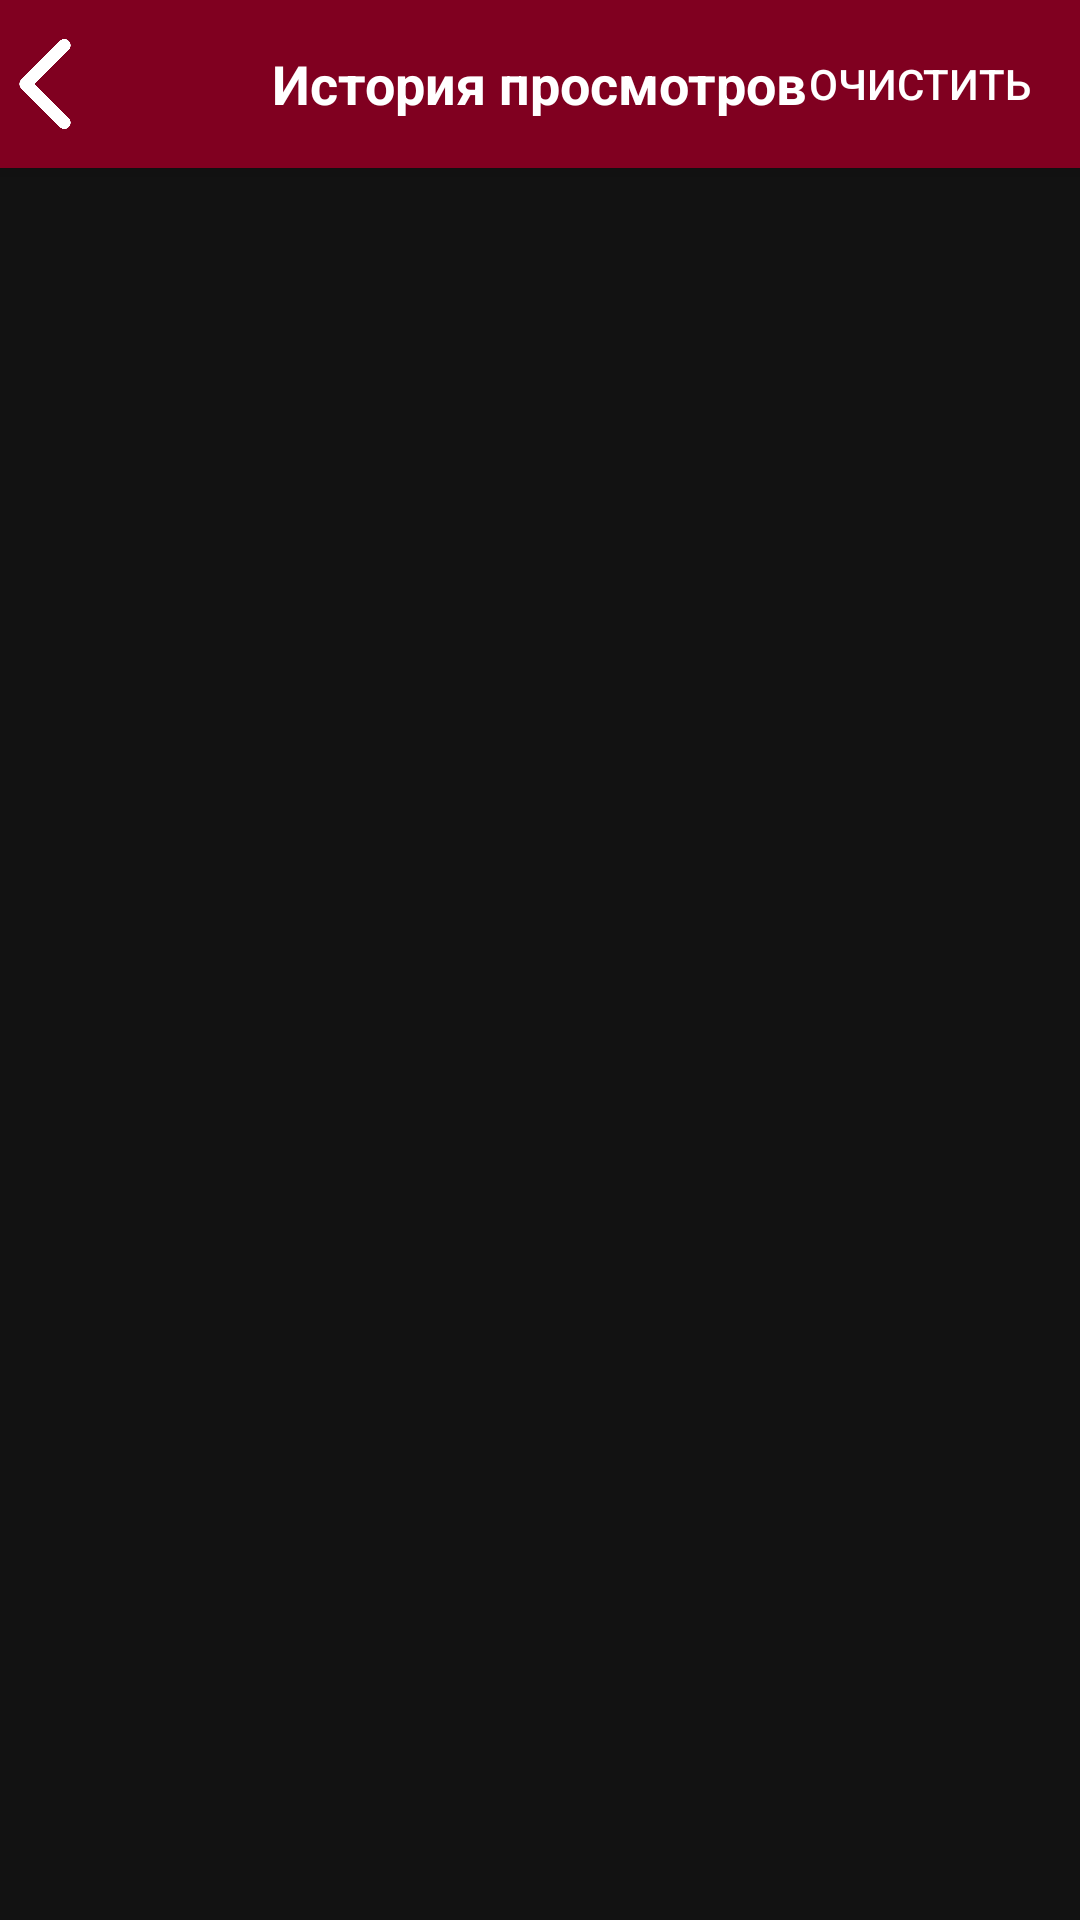

Locate icon controls on the screen. Image size 1080w x 1920h, boxes as (x1, y1, x2, y2).
Назад: (19, 39, 71, 129)
